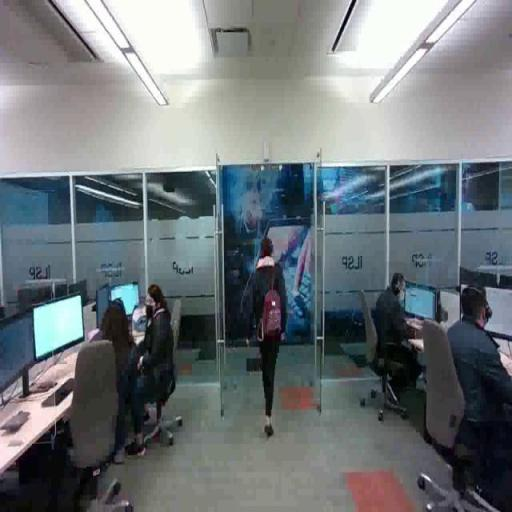person: (243, 236, 290, 442)
